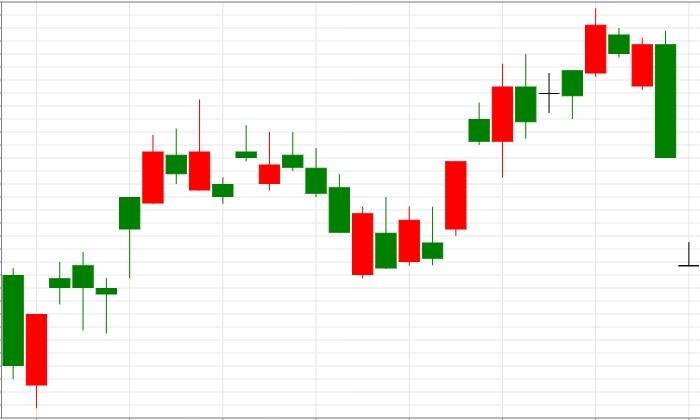hanging_man_fall: (26, 197, 140, 408)
